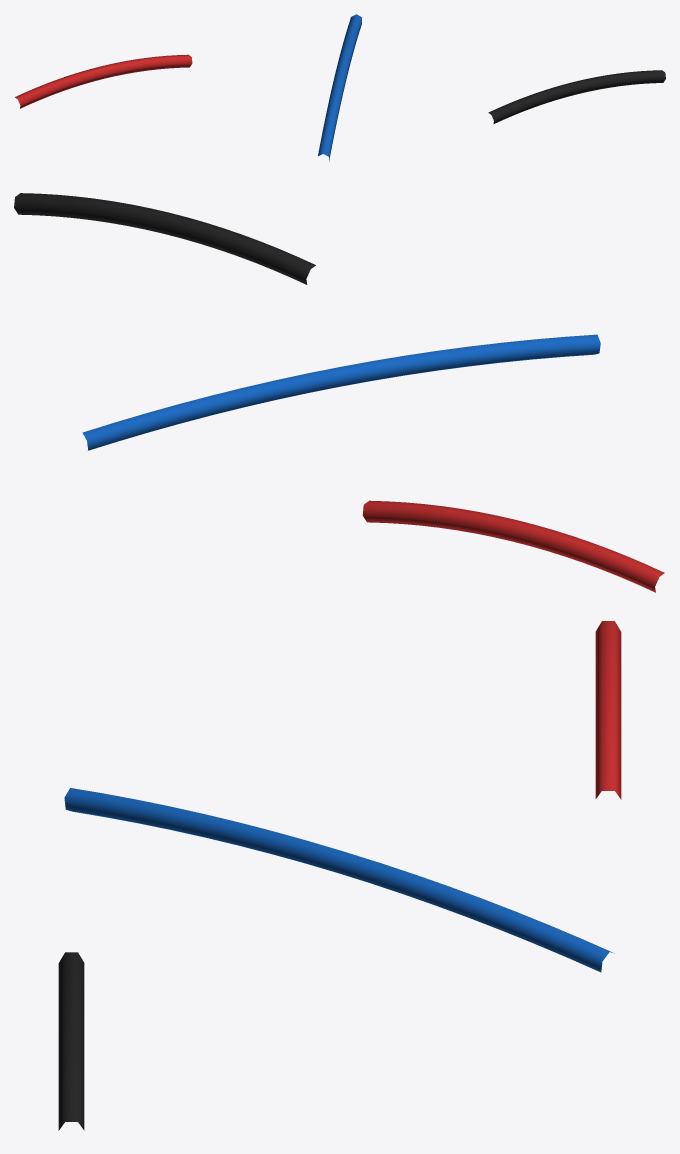
3 renders of one model, top to bottom at view 1: azimuth 30°, elevation 25°; view 2: azimuth 150°, elevation 25°; view 3: azimuth 270°, elevation 25°, orthographic. The views are drawn at different scales.
Parts seen in each view (by area): view 1: B11; view 2: B11; view 3: B11.
Boxes of the visible parts, x1=… form: B11: x1=15, y1=14, x2=665, y2=161; B11: x1=14, y1=193, x2=664, y2=592; B11: x1=58, y1=621, x2=621, y2=1130.
Bounding box in the file's own units: 0.1104 × 0.00439 × 0.0524.
